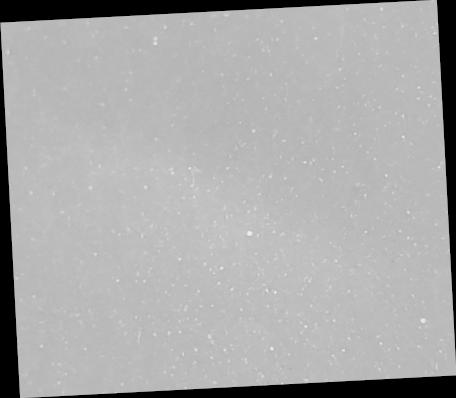dent: (1, 1, 456, 398)
